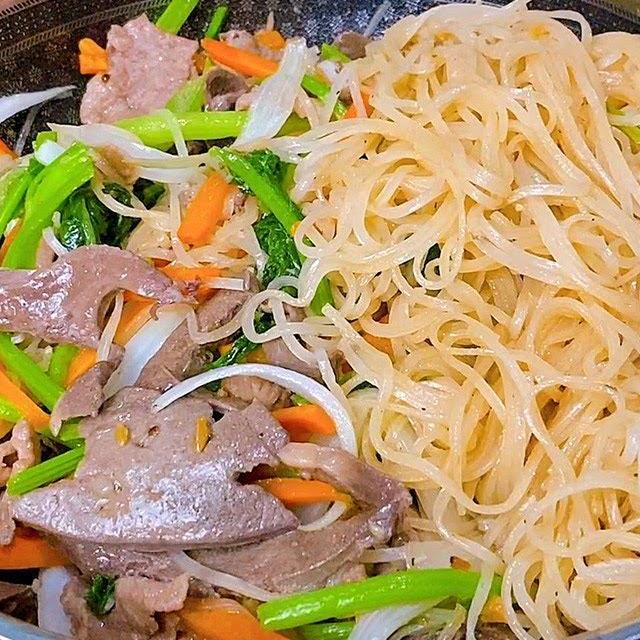banh hu tieu: (260, 0, 640, 640)
hu tieu: (0, 0, 640, 640)
thit heo: (71, 8, 211, 171)
